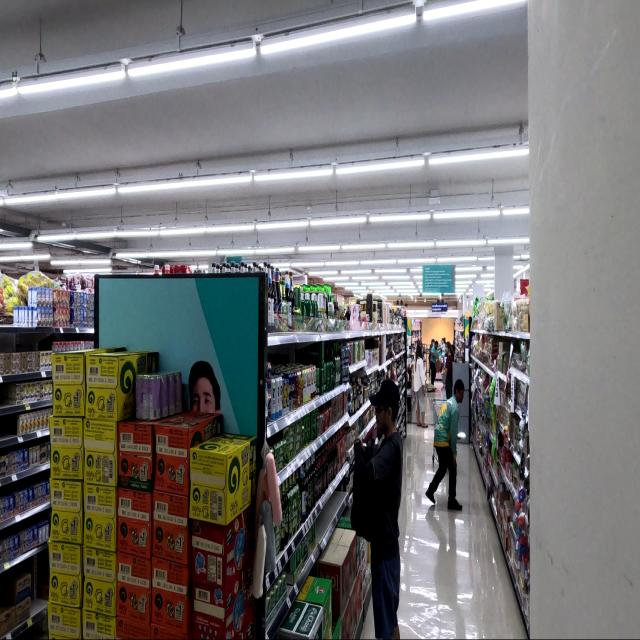shoplifting: (352, 384, 401, 640)
